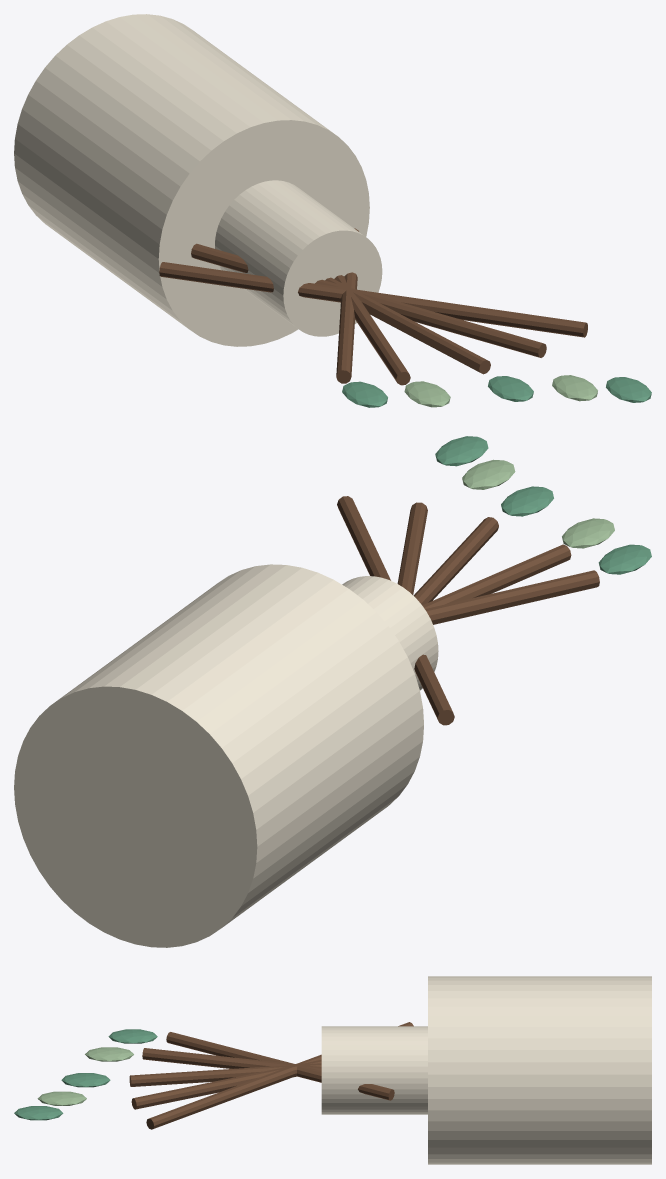
Rendered from prop_bottom_vase_branch.glb.
3 renders of one model, top to bottom at view 1: azimuth 30°, elevation 25°; view 2: azimuth 150°, elevation 25°; view 3: azimuth 270°, elevation 25°, orthographic. The views are drawn at different scales.
Parts seen in each view (by area): view 1: prop_bottom_vase_branch_ivory_vase_body, prop_bottom_vase_branch_narrow_neck, prop_bottom_vase_branch_thin_branch_5, prop_bottom_vase_branch_thin_branch_4, prop_bottom_vase_branch_thin_branch_3, prop_bottom_vase_branch_thin_branch_2, prop_bottom_vase_branch_thin_branch_1, prop_bottom_vase_branch_tiny_leaf_2, prop_bottom_vase_branch_tiny_leaf_1, prop_bottom_vase_branch_tiny_leaf_4, prop_bottom_vase_branch_tiny_leaf_3, prop_bottom_vase_branch_tiny_leaf_5; view 2: prop_bottom_vase_branch_ivory_vase_body, prop_bottom_vase_branch_narrow_neck, prop_bottom_vase_branch_thin_branch_1, prop_bottom_vase_branch_thin_branch_5, prop_bottom_vase_branch_thin_branch_2, prop_bottom_vase_branch_thin_branch_3, prop_bottom_vase_branch_thin_branch_4, prop_bottom_vase_branch_tiny_leaf_5, prop_bottom_vase_branch_tiny_leaf_1, prop_bottom_vase_branch_tiny_leaf_2, prop_bottom_vase_branch_tiny_leaf_3, prop_bottom_vase_branch_tiny_leaf_4; view 3: prop_bottom_vase_branch_ivory_vase_body, prop_bottom_vase_branch_narrow_neck, prop_bottom_vase_branch_thin_branch_5, prop_bottom_vase_branch_thin_branch_1, prop_bottom_vase_branch_thin_branch_4, prop_bottom_vase_branch_thin_branch_3, prop_bottom_vase_branch_thin_branch_2, prop_bottom_vase_branch_tiny_leaf_1, prop_bottom_vase_branch_tiny_leaf_3, prop_bottom_vase_branch_tiny_leaf_4, prop_bottom_vase_branch_tiny_leaf_5, prop_bottom_vase_branch_tiny_leaf_2.
Part boxes in pixels (x1,y1,x2,y2): prop_bottom_vase_branch_ivory_vase_body: [14, 14, 369, 346]; prop_bottom_vase_branch_narrow_neck: [215, 180, 382, 336]; prop_bottom_vase_branch_thin_branch_5: [159, 262, 587, 337]; prop_bottom_vase_branch_thin_branch_4: [191, 243, 546, 357]; prop_bottom_vase_branch_thin_branch_3: [325, 277, 490, 374]; prop_bottom_vase_branch_thin_branch_2: [334, 275, 410, 385]; prop_bottom_vase_branch_thin_branch_1: [336, 228, 358, 383]; prop_bottom_vase_branch_tiny_leaf_2: [404, 381, 450, 407]; prop_bottom_vase_branch_tiny_leaf_1: [342, 381, 387, 407]; prop_bottom_vase_branch_tiny_leaf_4: [552, 375, 597, 401]; prop_bottom_vase_branch_tiny_leaf_3: [488, 376, 533, 401]; prop_bottom_vase_branch_tiny_leaf_5: [606, 377, 651, 402]; prop_bottom_vase_branch_ivory_vase_body: [14, 564, 423, 947]; prop_bottom_vase_branch_narrow_neck: [342, 576, 438, 690]; prop_bottom_vase_branch_thin_branch_1: [425, 570, 599, 624]; prop_bottom_vase_branch_thin_branch_5: [337, 496, 454, 725]; prop_bottom_vase_branch_thin_branch_2: [422, 544, 571, 608]; prop_bottom_vase_branch_thin_branch_3: [413, 517, 498, 605]; prop_bottom_vase_branch_thin_branch_4: [397, 502, 427, 594]; prop_bottom_vase_branch_tiny_leaf_5: [435, 436, 488, 466]; prop_bottom_vase_branch_tiny_leaf_1: [598, 544, 651, 574]; prop_bottom_vase_branch_tiny_leaf_2: [562, 518, 614, 548]; prop_bottom_vase_branch_tiny_leaf_3: [501, 486, 553, 516]; prop_bottom_vase_branch_tiny_leaf_4: [462, 459, 515, 489]; prop_bottom_vase_branch_ivory_vase_body: [428, 976, 651, 1164]; prop_bottom_vase_branch_narrow_neck: [321, 1026, 427, 1114]; prop_bottom_vase_branch_thin_branch_5: [146, 1022, 413, 1129]; prop_bottom_vase_branch_thin_branch_1: [166, 1032, 394, 1100]; prop_bottom_vase_branch_thin_branch_4: [131, 1059, 321, 1109]; prop_bottom_vase_branch_thin_branch_3: [129, 1063, 321, 1086]; prop_bottom_vase_branch_thin_branch_2: [142, 1048, 321, 1070]; prop_bottom_vase_branch_tiny_leaf_1: [108, 1029, 157, 1043]; prop_bottom_vase_branch_tiny_leaf_3: [61, 1073, 110, 1087]; prop_bottom_vase_branch_tiny_leaf_4: [37, 1091, 86, 1105]; prop_bottom_vase_branch_tiny_leaf_5: [14, 1106, 63, 1120]; prop_bottom_vase_branch_tiny_leaf_2: [85, 1047, 133, 1061].
Bounding box in the file's own units: 0.3703 × 0.2944 × 0.9954.
